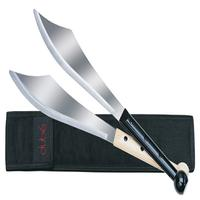knife: (28, 6, 186, 179), (5, 62, 164, 177)
